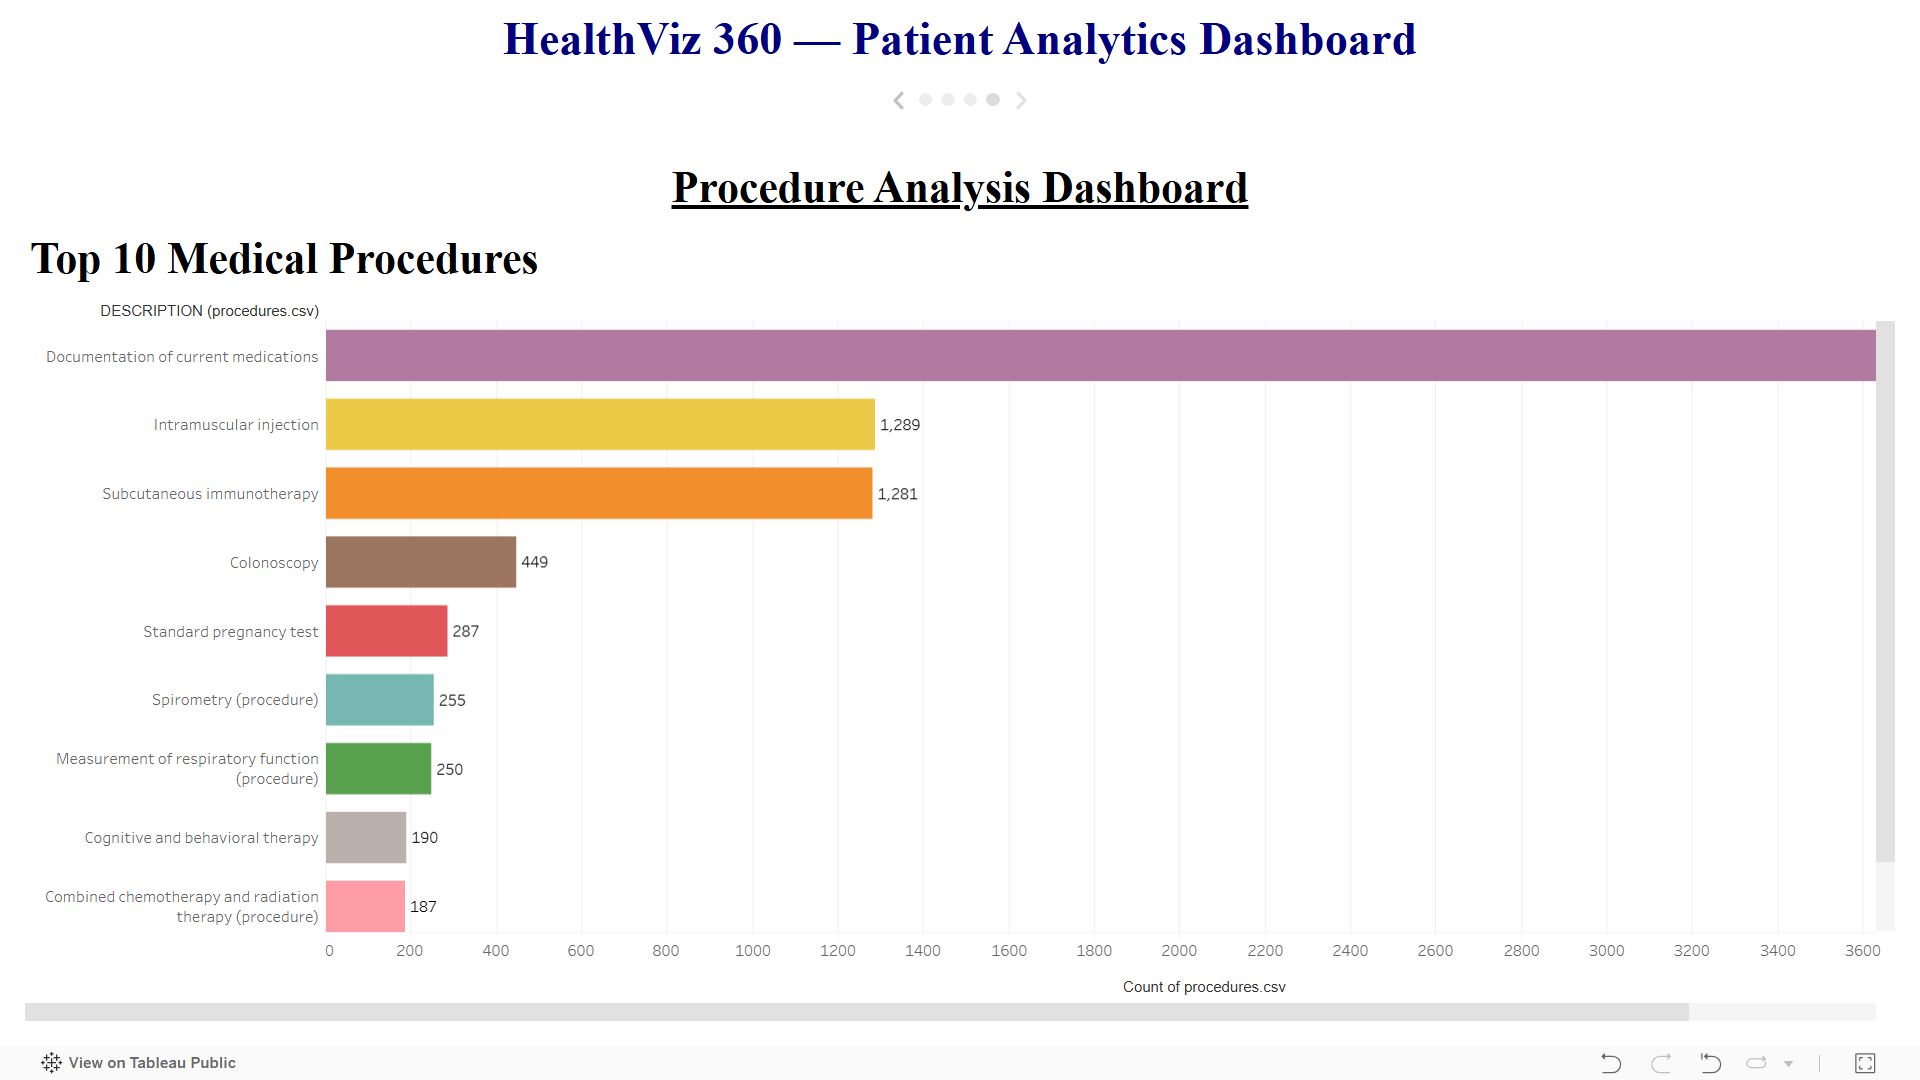

The page's visual inventory and layout, read from the dashboard file:
{"tool":"tableau","page":{"name":"Dashboard 4","canvas":[1000,1000],"units":"permille","ordinal":3},"visuals":[{"type":"title","box":[4.7,10,990.6,74.9]},{"type":"worksheet","title":"Sheet 8","mark":"Bar","rows":["DESCRIPTION (procedures.csv)"],"cols":["procedures.csv_0DDEA5D635D54276A5342D56E2B86CCB"],"box":[4.7,84.9,990.6,905.1]}]}

Visuals, with their boxes on the dashboard's canvas, which has no fixed pixel size, in thousandths of its width and height (x1, y1, x2, y2). These are canvas units, not pixel positions in the 1920x1080 screenshot, which may show the page scaled, cropped or inside an application window:
title: x1=5 y1=10 x2=995 y2=85
"Sheet 8" worksheet (Bar marks): x1=5 y1=85 x2=995 y2=990
